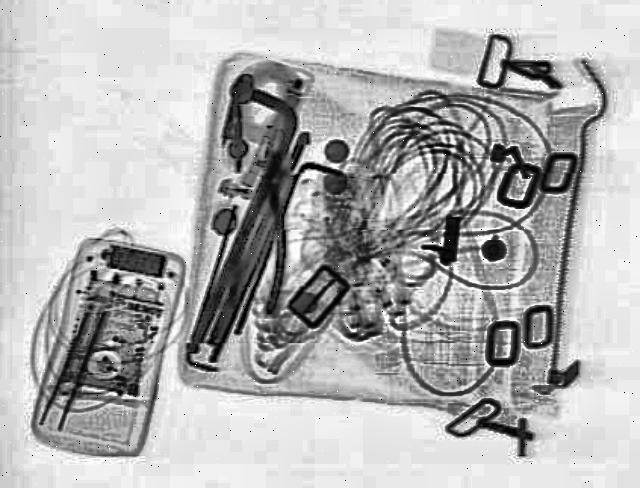Pliers: (218, 151, 306, 316)
